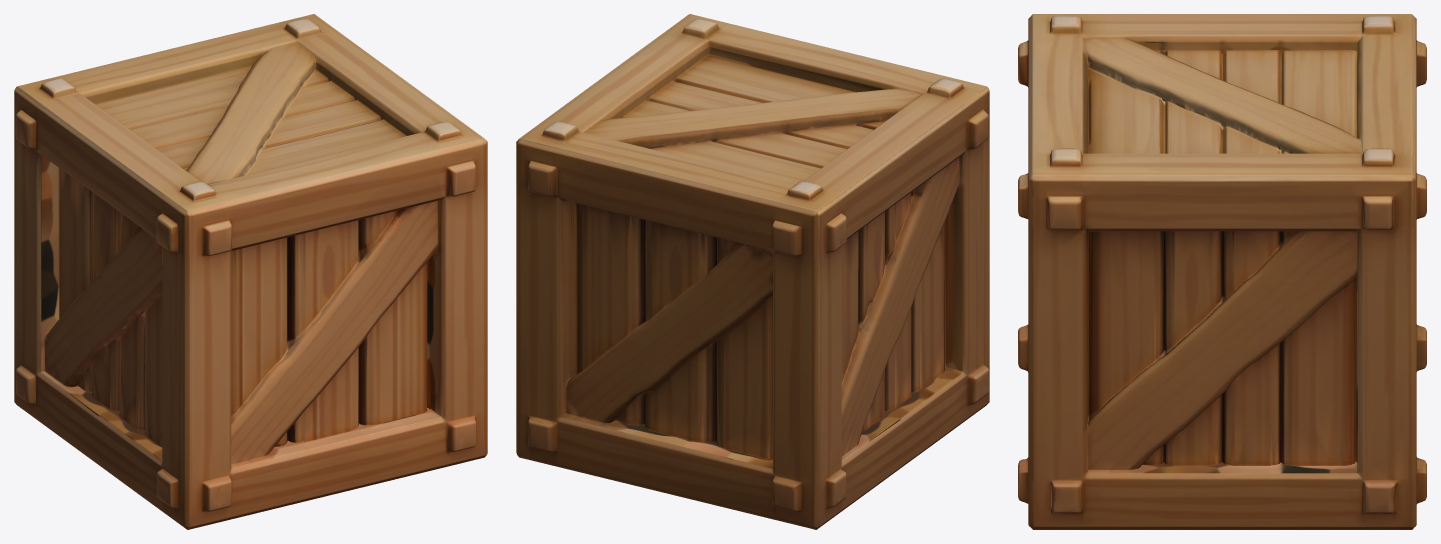
The model's file is crate.glb.
3 views of the same model, side by side, from view 1: azimuth 30°, elevation 25°; view 2: azimuth 150°, elevation 25°; view 3: azimuth 270°, elevation 25° (orthographic). The views are drawn at different scales.
Visible parts, largest first — view 1: Crate; view 2: Crate; view 3: Crate.
Part boxes in pixels (bbox=[...]): Crate: bbox=[14, 14, 487, 529]; Crate: bbox=[516, 14, 989, 529]; Crate: bbox=[1018, 14, 1426, 529].
Size of the model in its own units: 0.6002 by 0.6 by 0.6008.
1 material, 1 textured.
